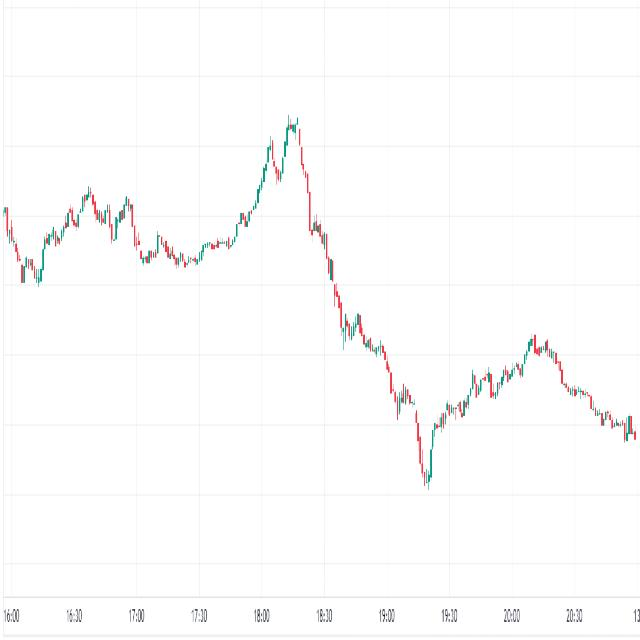Cup-and-handle: (85, 96, 295, 284)
